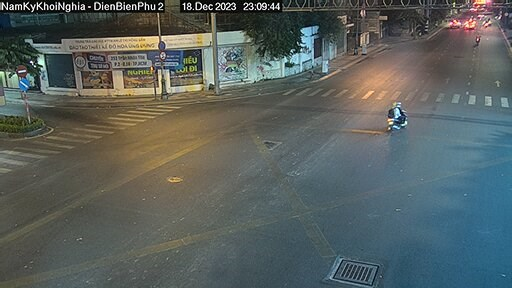motorbike: (379, 98, 413, 135), (469, 28, 490, 46)
